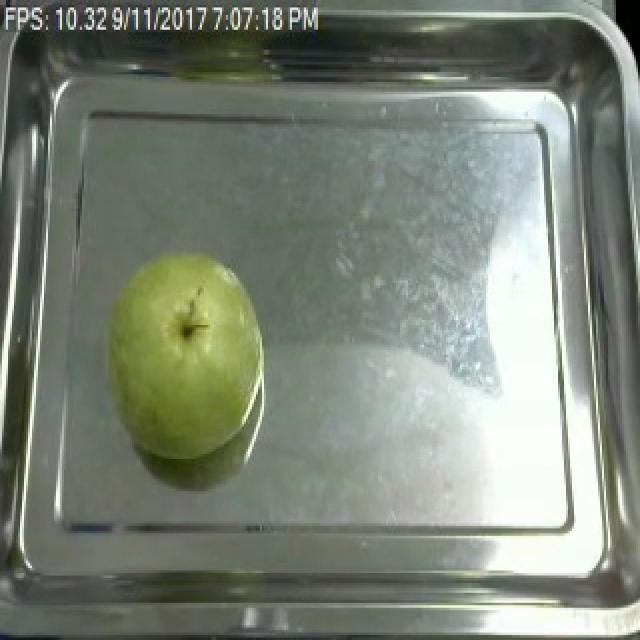Fruit: (88, 241, 276, 468)
